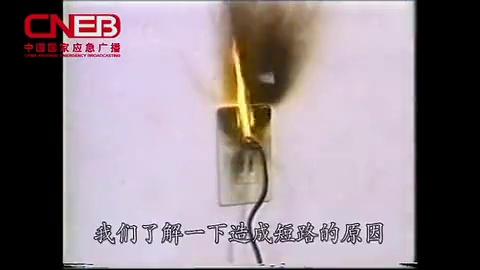fire: (225, 28, 261, 146)
